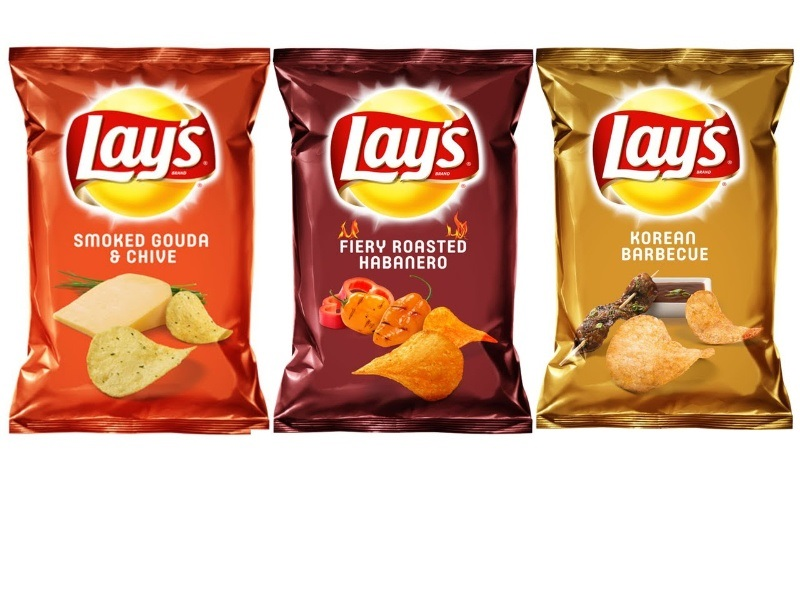chips: (254, 27, 558, 448), (1, 22, 284, 458), (522, 34, 800, 450)
